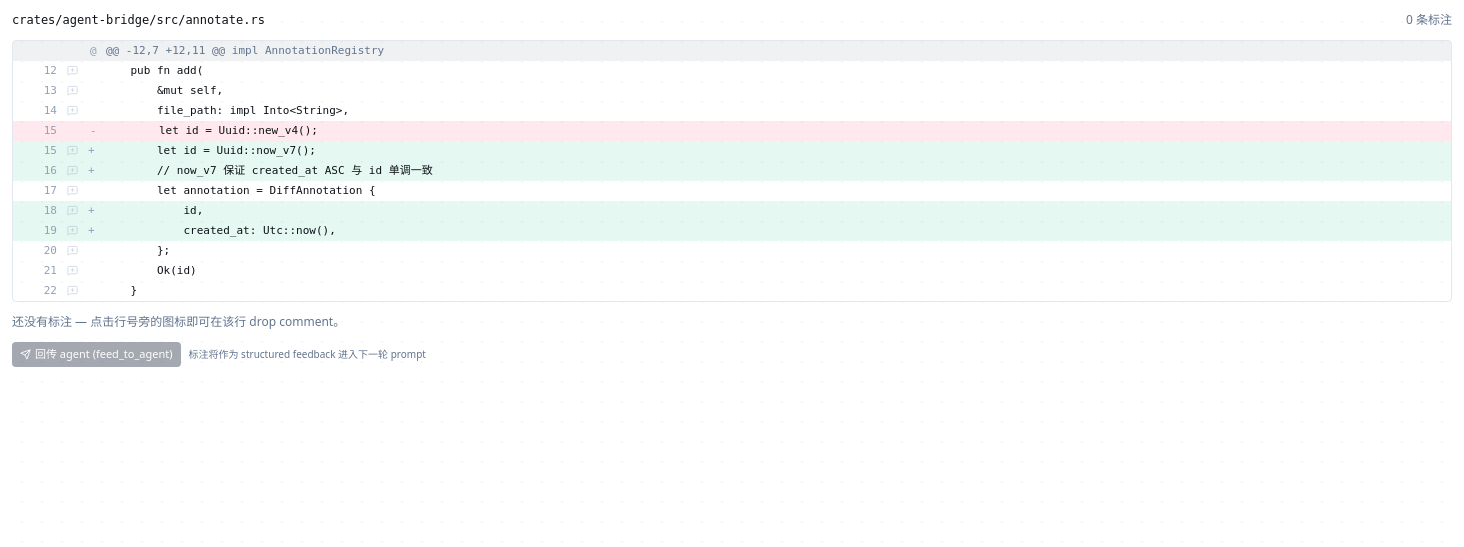
DiffAnnotator › 后端拒绝时把 6-field error 的 message 显示出来
Step 1. Click the button with test id "annotation-gutter-15" → (72, 150), box [65,143,80,158]
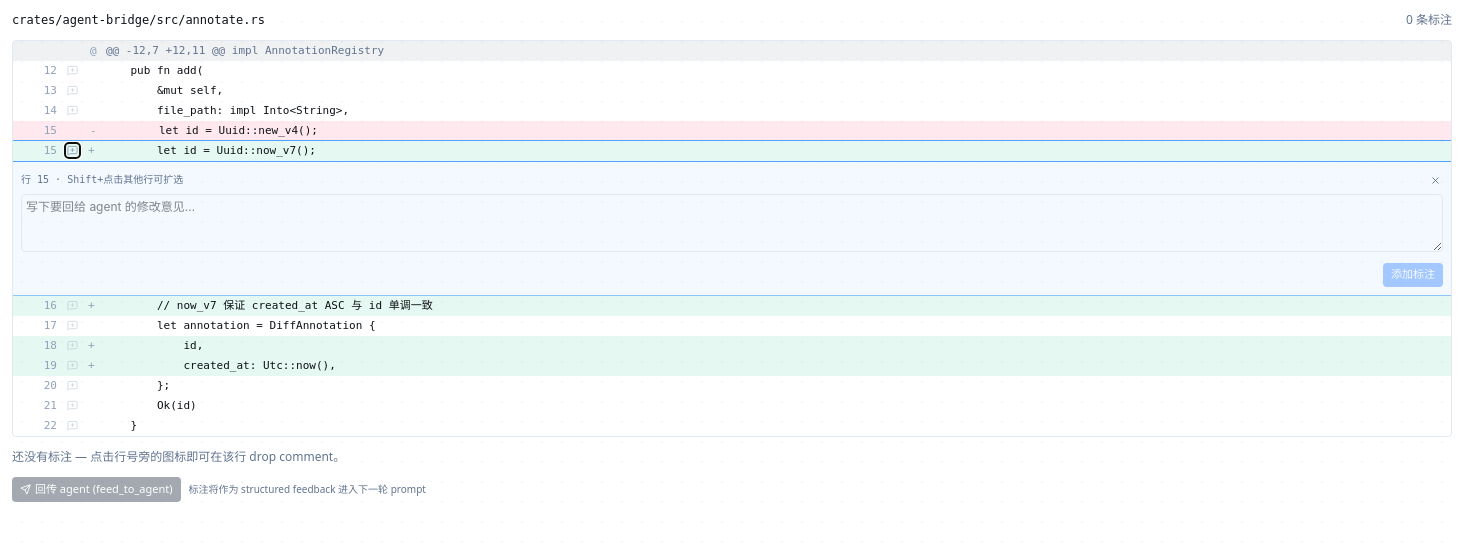
Step 2. Type "会被拒" into the text box with test id "annotation-body-input" → (732, 223), box [21,194,1443,252]
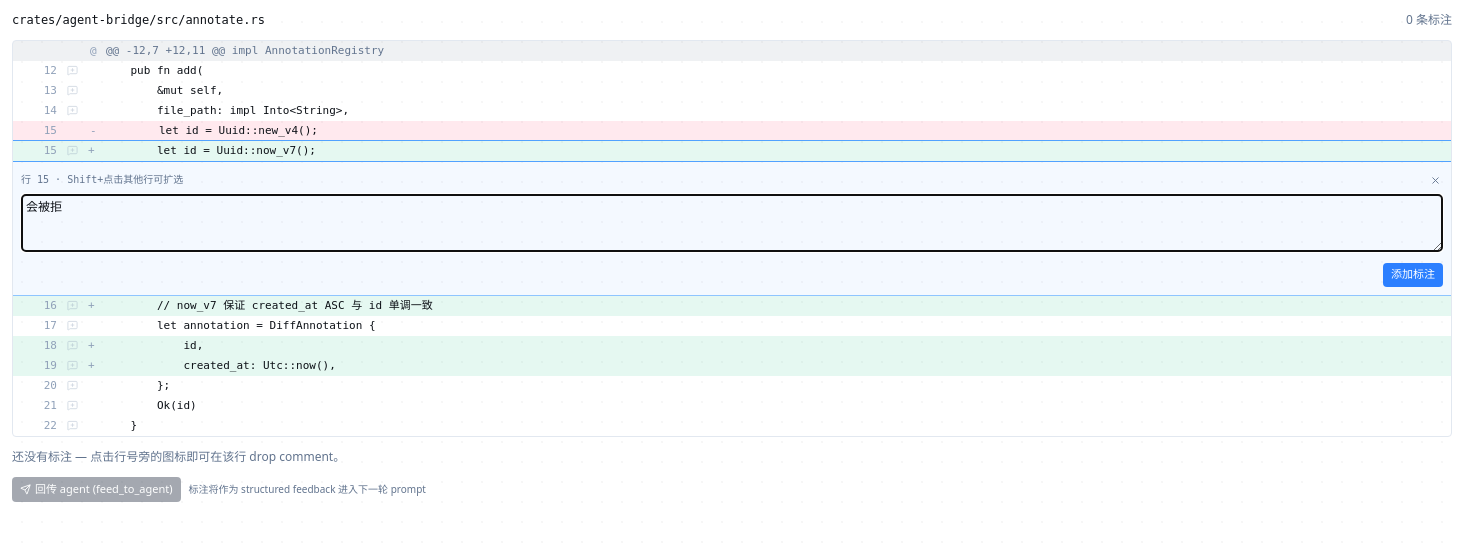
Step 3. Click the button with test id "annotation-submit" → (1413, 275), box [1383,263,1443,287]
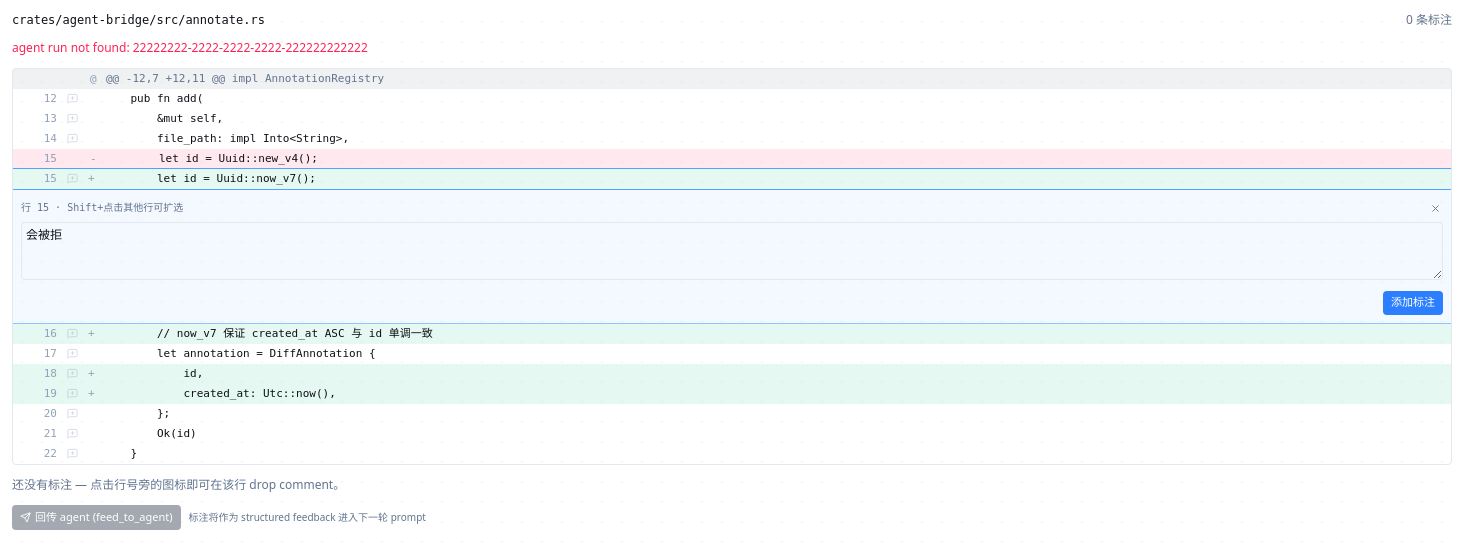
Check: the message with test id "annotation-error" shows "agent run not found", box [12,39,368,56]
